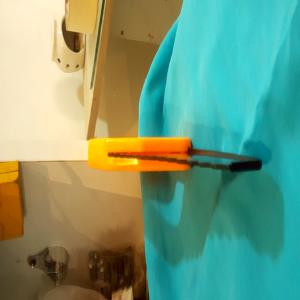serrote: (88, 136, 262, 174)
